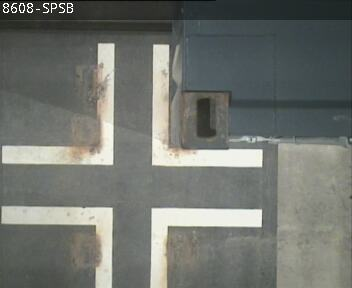groundmarker_1: (1, 44, 261, 166), (3, 206, 259, 288)
